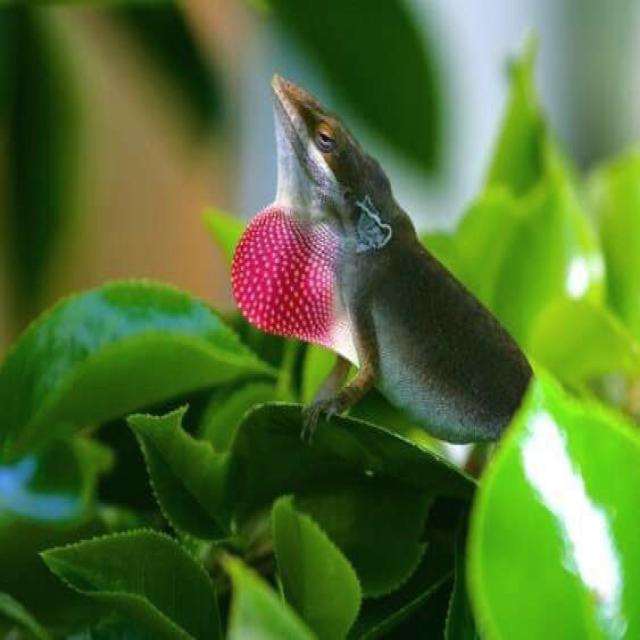lizard: (231, 74, 531, 443)
